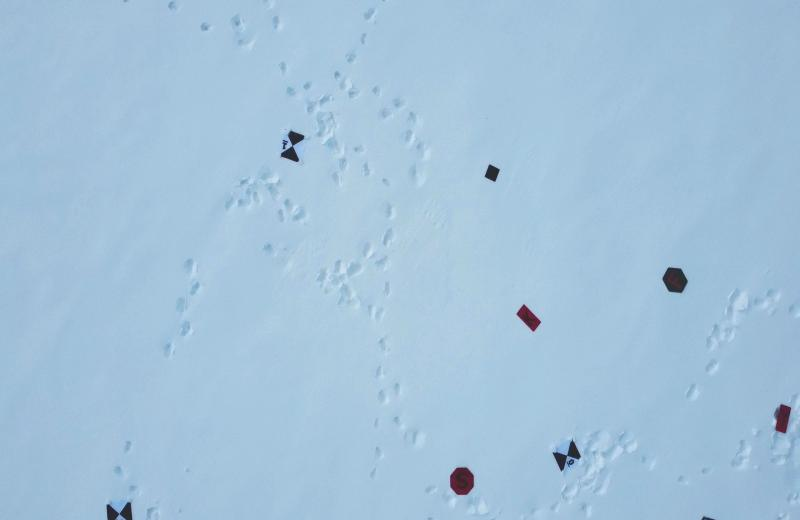Hexagon: (661, 262, 691, 296)
Octagon: (448, 464, 479, 498)
Rectangle: (513, 300, 542, 334), (768, 402, 796, 434)
Square: (481, 163, 503, 187)
